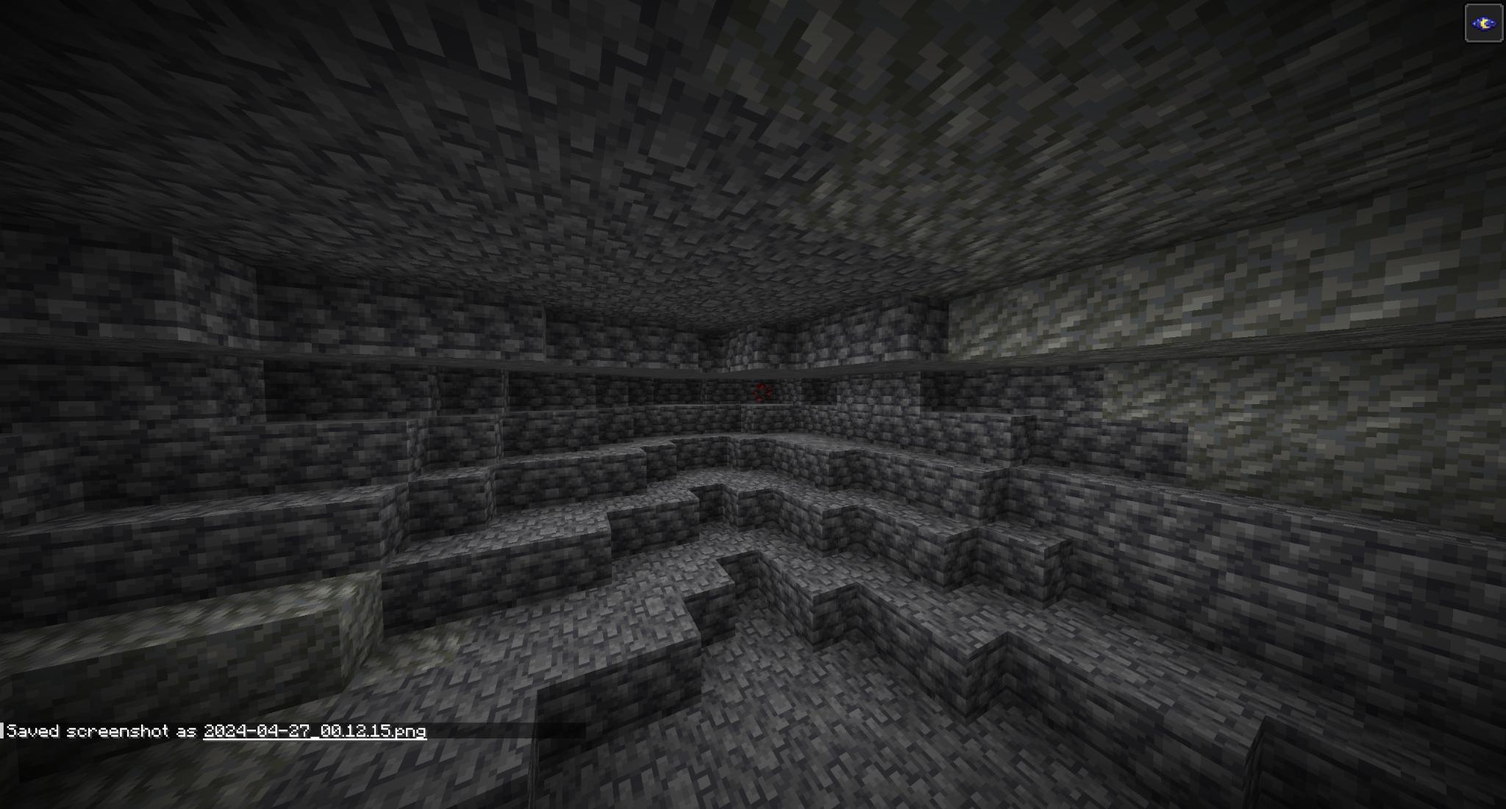redstone ore: (743, 375, 777, 403)
